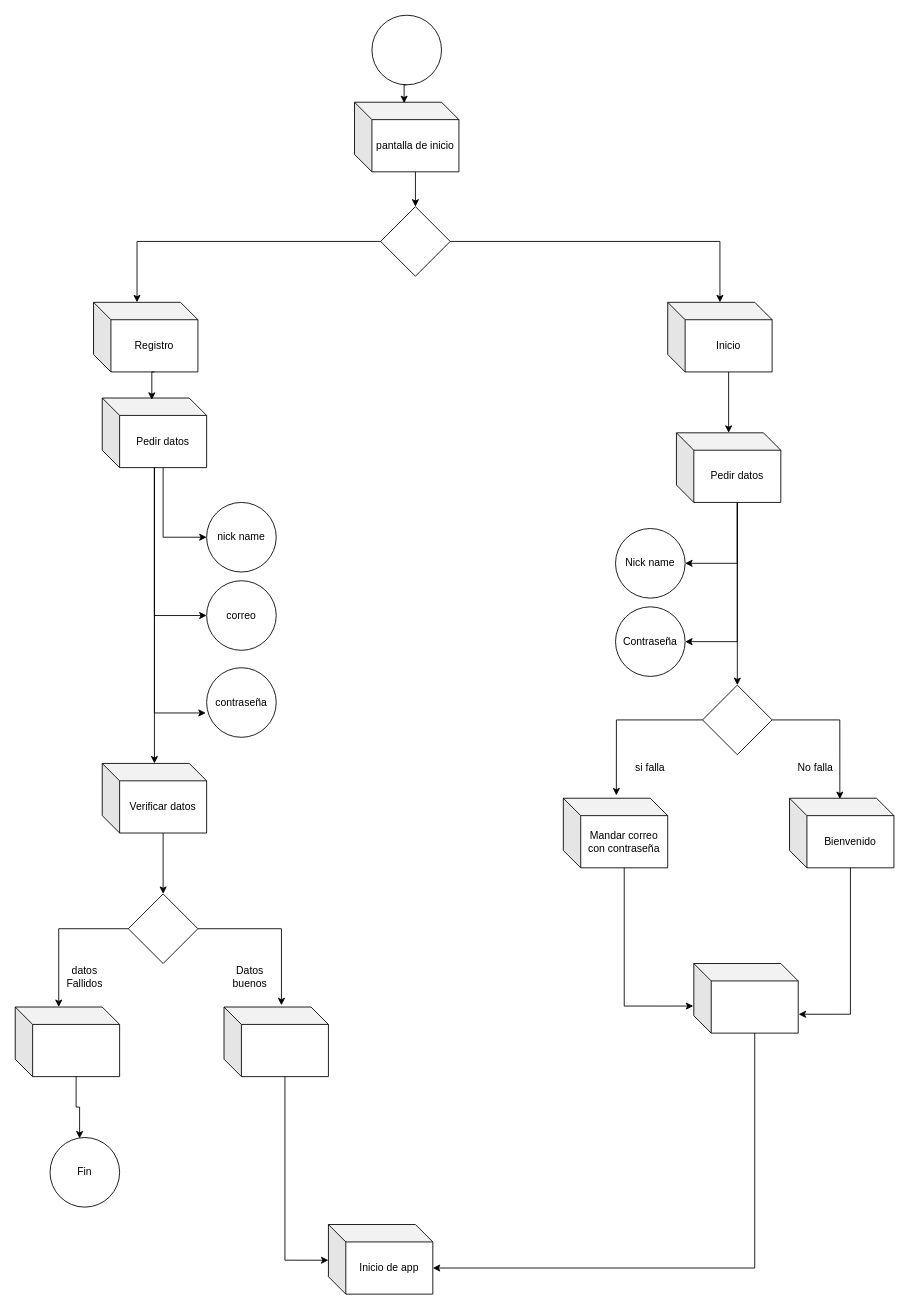
Some shapes in this 909 by 1309 pixel diagram are drawn without their labels. Each missing label, with the box of its shape:
Adios: (14, 1006, 120, 1077)
Bienvenido (Almacenamos en base de datos): (223, 1006, 328, 1077)
Fallan 3 intentos: (702, 684, 772, 755)
iniciar o registro: (380, 206, 450, 276)
inicio QuetzalKey: (371, 14, 442, 85)
Lograr entrar: (693, 963, 798, 1033)
si/no: (127, 893, 198, 964)
